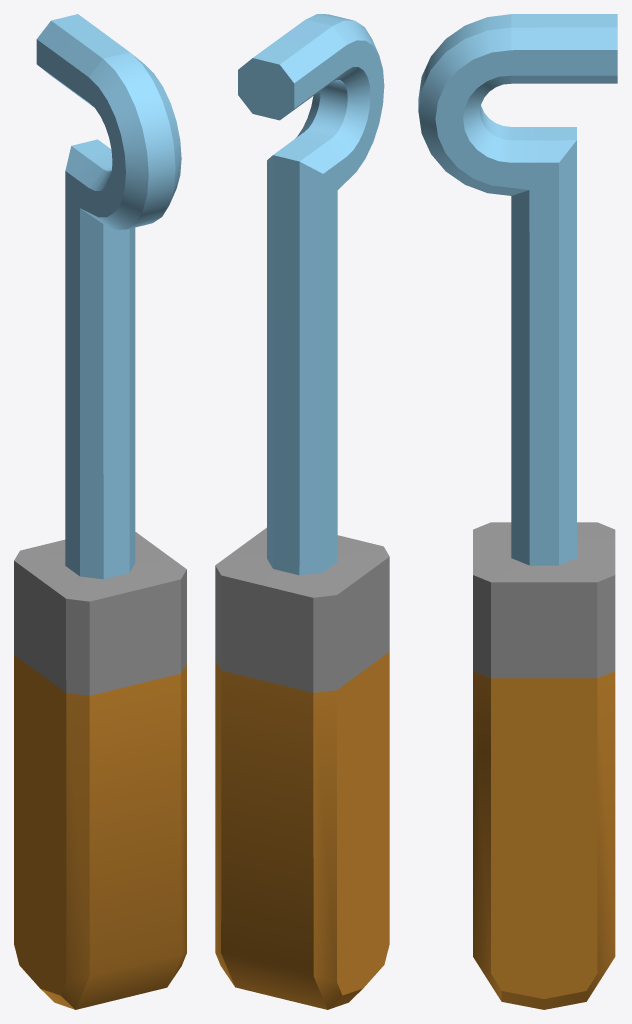
File: Ganzua.fbx
The picture shows the model from 3 angles, left to right: view 1: azimuth 30°, elevation 25°; view 2: azimuth 150°, elevation 25°; view 3: azimuth 270°, elevation 25°; orthographic projection.
Parts seen in each view (by area): view 1: Cube.002; view 2: Cube.002; view 3: Cube.002.
Boxes of the visible parts, x1,y1,x2,y2 form: Cube.002: (14,14,186,1009); Cube.002: (215,14,389,1009); Cube.002: (418,14,617,1009).
Size of the model in its own units: 66.83 by 501 by 93.56.
